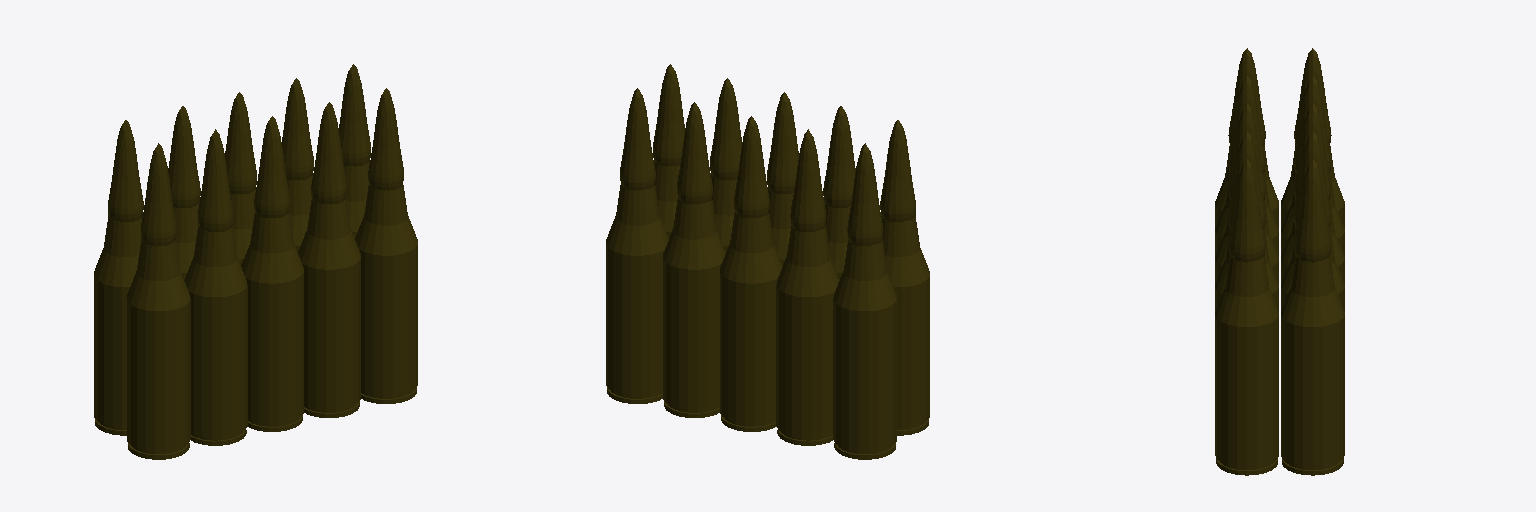
The model's file is RifleBullet_TenRds.obj.
3 renders of one model, left to right at view 1: azimuth 30°, elevation 25°; view 2: azimuth 150°, elevation 25°; view 3: azimuth 270°, elevation 25°, orthographic.
Parts seen in each view (by area): view 1: RifleBullet_Pickable10; view 2: RifleBullet_Pickable10; view 3: RifleBullet_Pickable10.
Boxes of the visible parts, <box> form: RifleBullet_Pickable10: <box>94,64,417,459</box>; RifleBullet_Pickable10: <box>606,64,929,459</box>; RifleBullet_Pickable10: <box>1215,48,1344,475</box>.
Bounding box in the file's own units: 11.26 × 11.58 × 4.47.